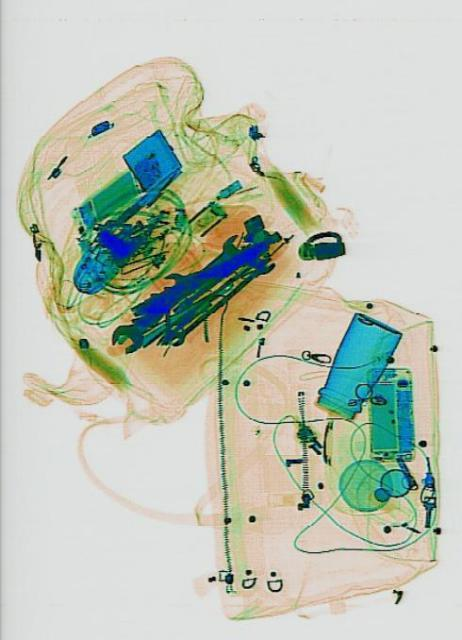Wrench: (106, 225, 247, 362), (162, 247, 276, 347), (159, 240, 263, 298)
